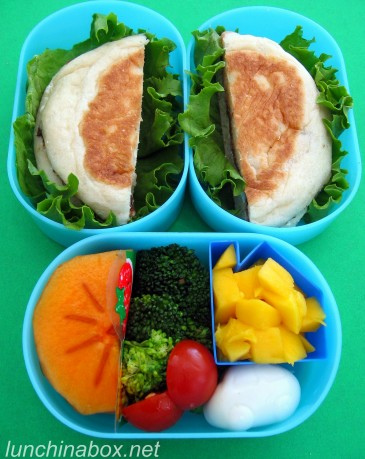broccoli: (130, 247, 207, 341)
